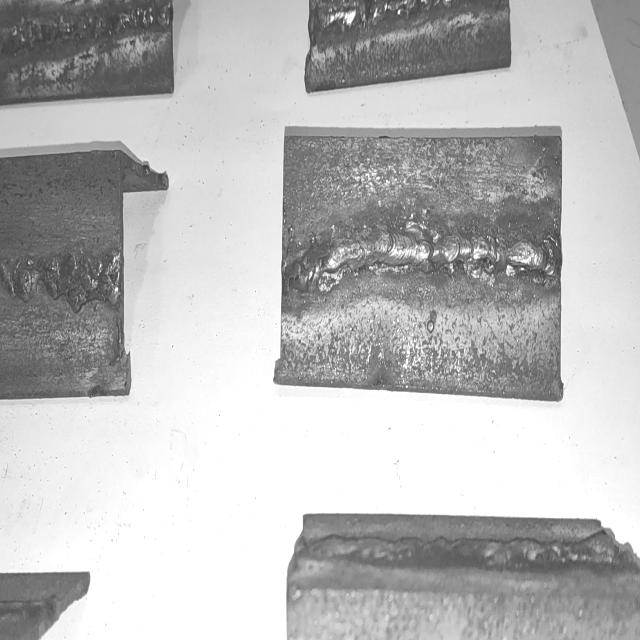Bad Weld: (288, 228, 558, 299)
Defect: (2, 1, 170, 52), (480, 214, 565, 298), (282, 223, 336, 304), (314, 0, 424, 38)
Good Weld: (2, 252, 117, 303)
